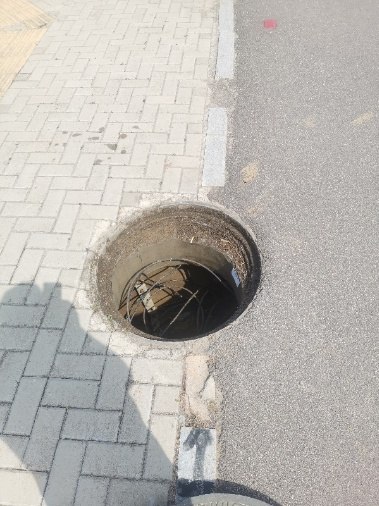lose: (88, 199, 264, 343)
